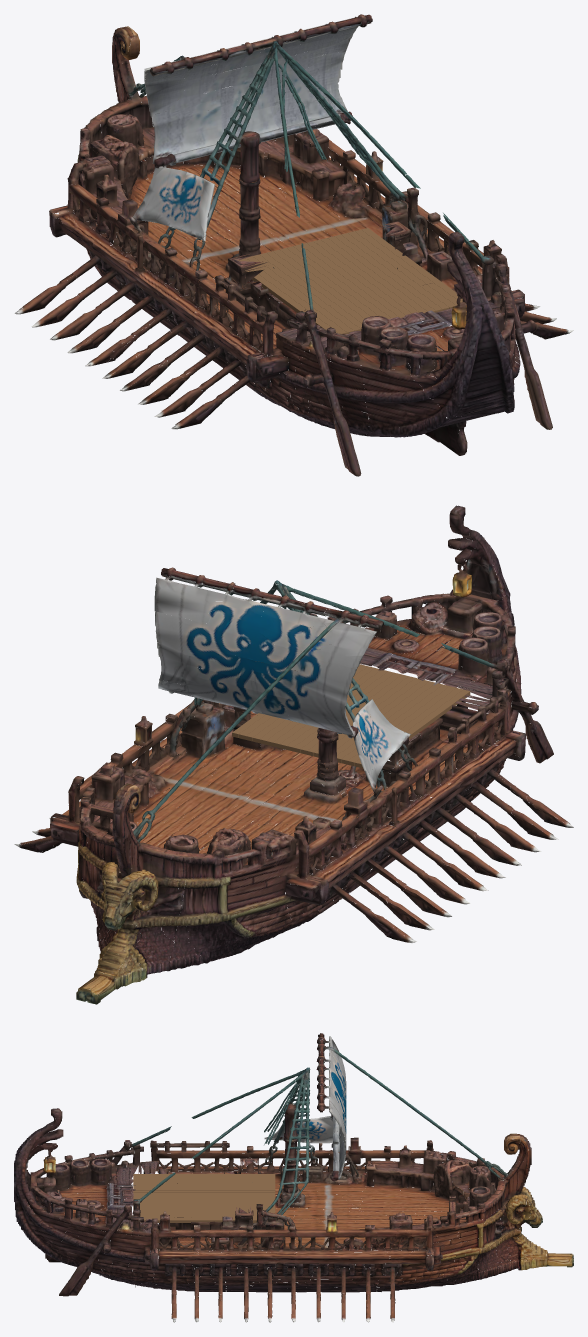
Rendered from full-boat-v4-clean-deck.glb.
3 views of the same model, one above another, from view 1: azimuth 30°, elevation 25°; view 2: azimuth 150°, elevation 25°; view 3: azimuth 270°, elevation 25° (orthographic). The views are drawn at different scales.
Parts seen in each view (by area): view 1: tripo_node_02b50d2a-160b-4bb5-9f90-fc61354bcf5a, Restored solid deck plank.003, Restored solid deck plank.004, Restored solid deck plank.002, Restored solid deck plank.005, Restored solid deck plank.006, Restored solid deck plank.009, Restored solid deck plank.001, Restored solid deck plank.007, Restored solid deck plank.016, Restored solid deck plank.008, Restored solid deck plank.017 (+9 smaller); view 2: tripo_node_02b50d2a-160b-4bb5-9f90-fc61354bcf5a, Restored solid deck plank.019; view 3: tripo_node_02b50d2a-160b-4bb5-9f90-fc61354bcf5a, Restored solid deck plank.010, Restored solid deck plank.012, Restored solid deck plank.015, Restored solid deck plank.018, Restored solid deck plank.019, Restored solid deck plank.009, Restored solid deck plank.011, Restored solid deck plank.014, Restored solid deck plank.016, Restored solid deck plank.017, Restored solid deck plank.013 (+4 smaller).
Part boxes in pixels (box(x1,y1,x2,y2)): tripo_node_02b50d2a-160b-4bb5-9f90-fc61354bcf5a: box(14, 14, 573, 476); Restored solid deck plank.003: box(341, 233, 449, 310); Restored solid deck plank.004: box(334, 234, 442, 312); Restored solid deck plank.002: box(348, 231, 455, 308); Restored solid deck plank.005: box(327, 236, 435, 312); Restored solid deck plank.006: box(320, 238, 427, 313); Restored solid deck plank.009: box(300, 243, 405, 317); Restored solid deck plank.001: box(354, 229, 460, 305); Restored solid deck plank.007: box(314, 239, 420, 317); Restored solid deck plank.016: box(252, 254, 360, 331); Restored solid deck plank.008: box(307, 241, 411, 315); Restored solid deck plank.017: box(246, 256, 353, 333); tripo_node_02b50d2a-160b-4bb5-9f90-fc61354bcf5a: box(14, 505, 573, 1004); Restored solid deck plank.019: box(361, 689, 470, 768); tripo_node_02b50d2a-160b-4bb5-9f90-fc61354bcf5a: box(14, 1033, 573, 1322); Restored solid deck plank.010: box(133, 1194, 275, 1196); Restored solid deck plank.012: box(133, 1190, 275, 1192); Restored solid deck plank.015: box(133, 1183, 275, 1185); Restored solid deck plank.018: box(133, 1176, 275, 1178); Restored solid deck plank.019: box(133, 1174, 275, 1176); Restored solid deck plank.009: box(133, 1197, 275, 1199); Restored solid deck plank.011: box(133, 1192, 275, 1194); Restored solid deck plank.014: box(133, 1185, 275, 1187); Restored solid deck plank.016: box(133, 1181, 275, 1183); Restored solid deck plank.017: box(133, 1178, 275, 1180); Restored solid deck plank.013: box(133, 1188, 275, 1190).
Size of the model in its own units: 0.567 by 0.3781 by 0.9782.
2 materials, 1 textured.
